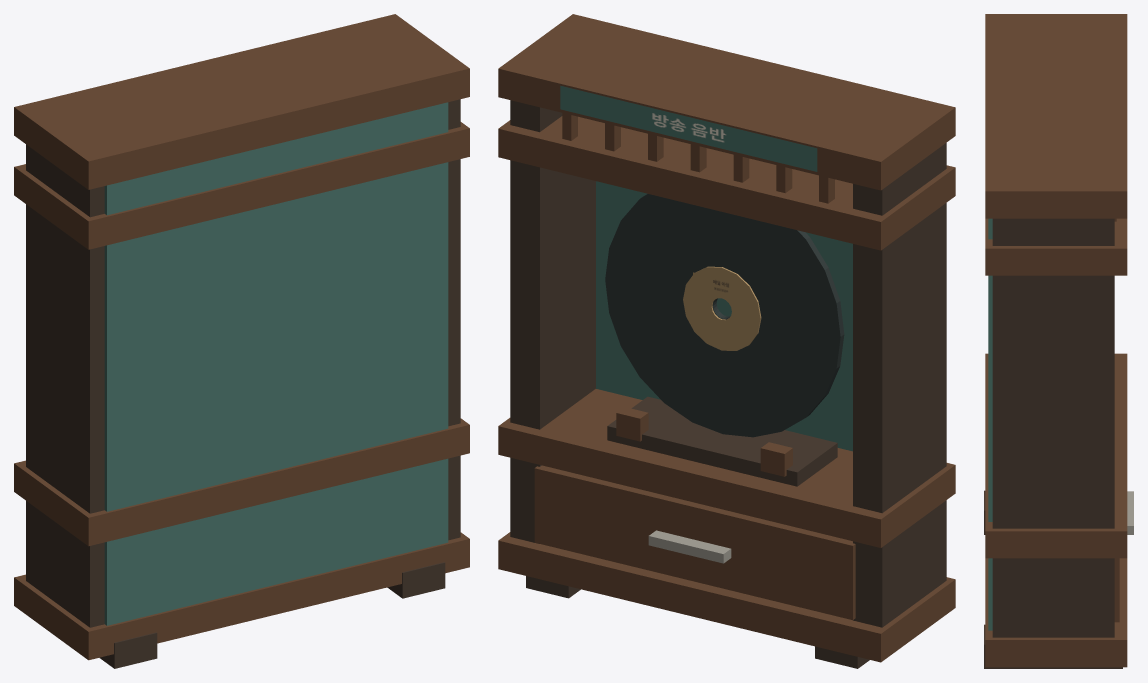
Rendered from W05_One_Record_Shelf.fbx.
The picture shows the model from 3 angles, left to right: view 1: azimuth 30°, elevation 25°; view 2: azimuth 150°, elevation 25°; view 3: azimuth 270°, elevation 25°; orthographic projection. The views are drawn at different scales.
Visible parts, largest first — view 1: Structure; view 2: Structure, Record_Disc, Record_Stand; view 3: Structure.
Part boxes in pixels (box(x1,y1,x2,y2)): Structure: box(14, 14, 469, 668); Structure: box(498, 14, 955, 668); Record_Disc: box(605, 194, 844, 437); Record_Stand: box(607, 396, 837, 486); Structure: box(984, 14, 1133, 668).
Bounding box in the file's own units: 1.4 × 1.8 × 0.5.
7 materials, 1 textured.
